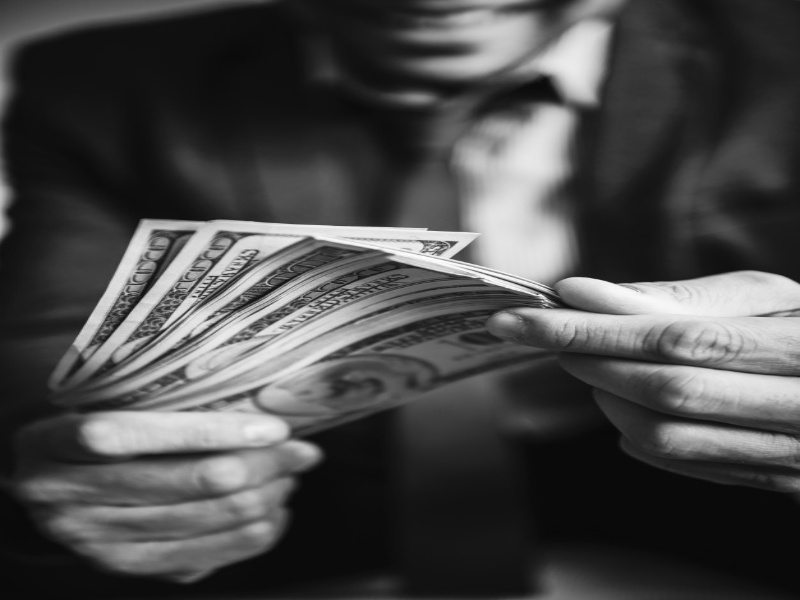cash: (47, 215, 562, 437)
person: (1, 1, 800, 600)
